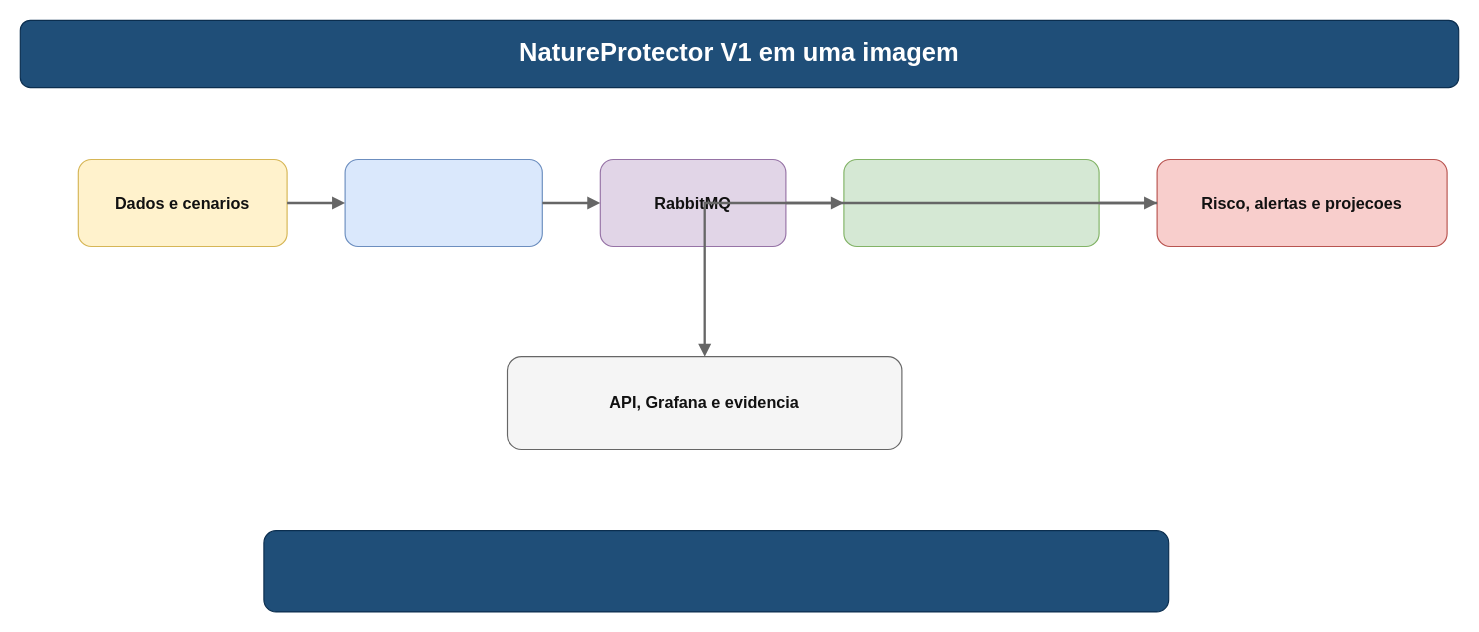
This 1479x632 diagram has some shape labels left out. The shapes that lost their labels are listed below. From the top down, each one's centre as x and y in pixels, then its label:
the point at 443,202: Simulador
the point at 971,202: Pipeline de prevencao
the point at 716,571: Transforma cenarios e leituras simuladas em estado operacional auditavel.
